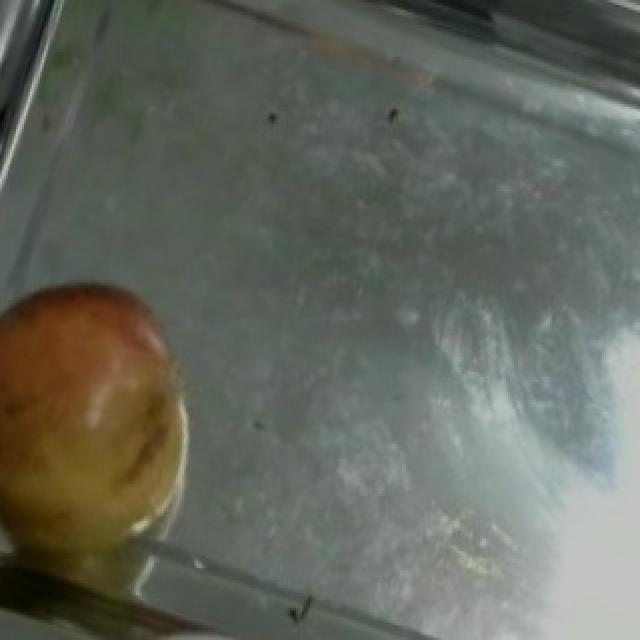fruit: (0, 253, 216, 496)
